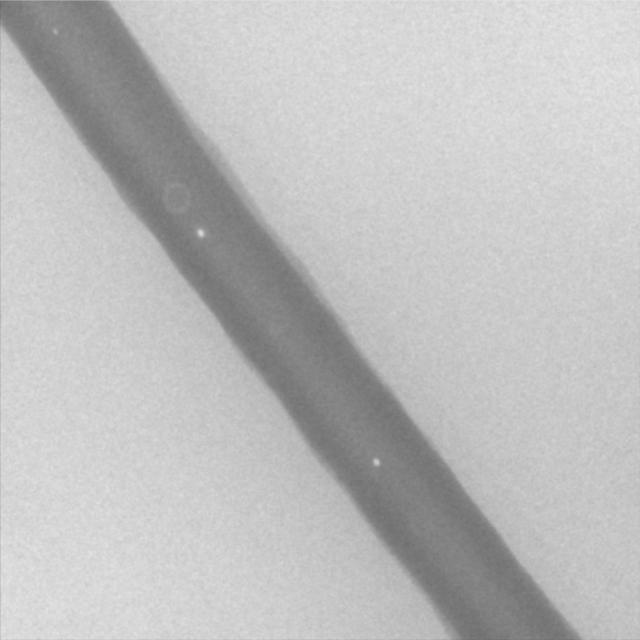air hole: (370, 455, 380, 467), (195, 228, 204, 238), (52, 27, 58, 37)
hollow bead: (161, 181, 191, 216)
